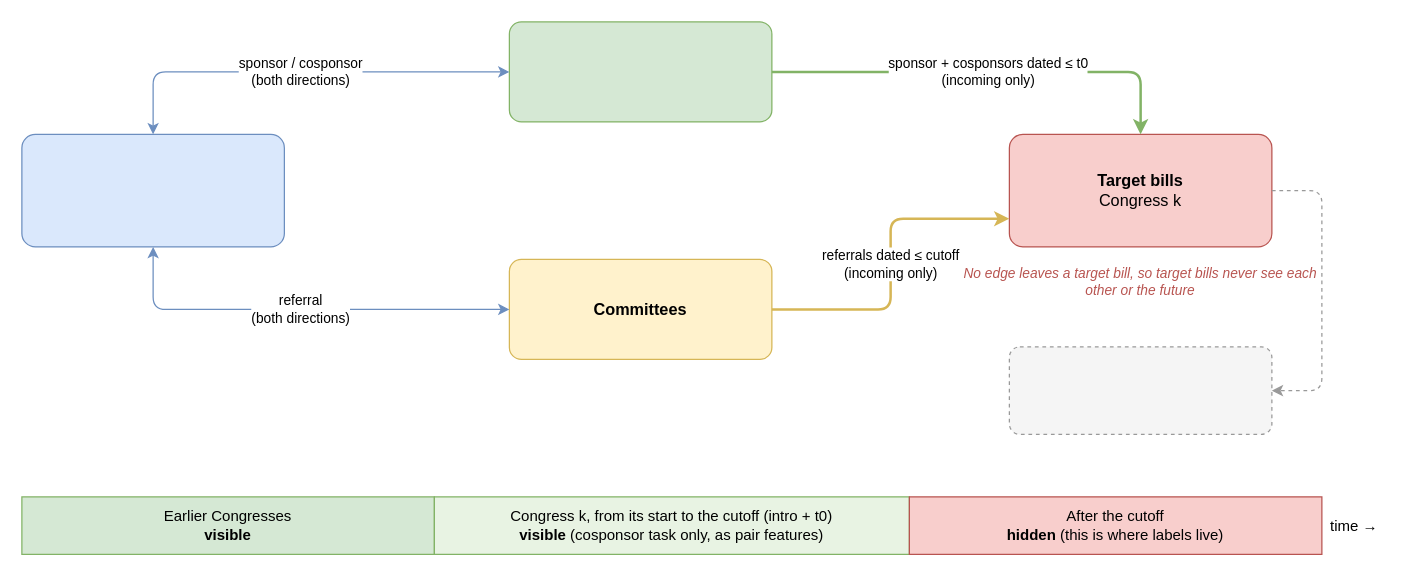
The diagram is 1425 pixels wide and 576 high, and some of its shapes have lost their labels. The centre of each missing label's shape, as x and y in pixels:
History bills Congresses k−3 … k−1 (finished): (x=152, y=190)
Label : who cosponsors in (t0, t0+30] never used as an edge: (x=1140, y=390)
Legislators point-in-time features: (x=640, y=71)
